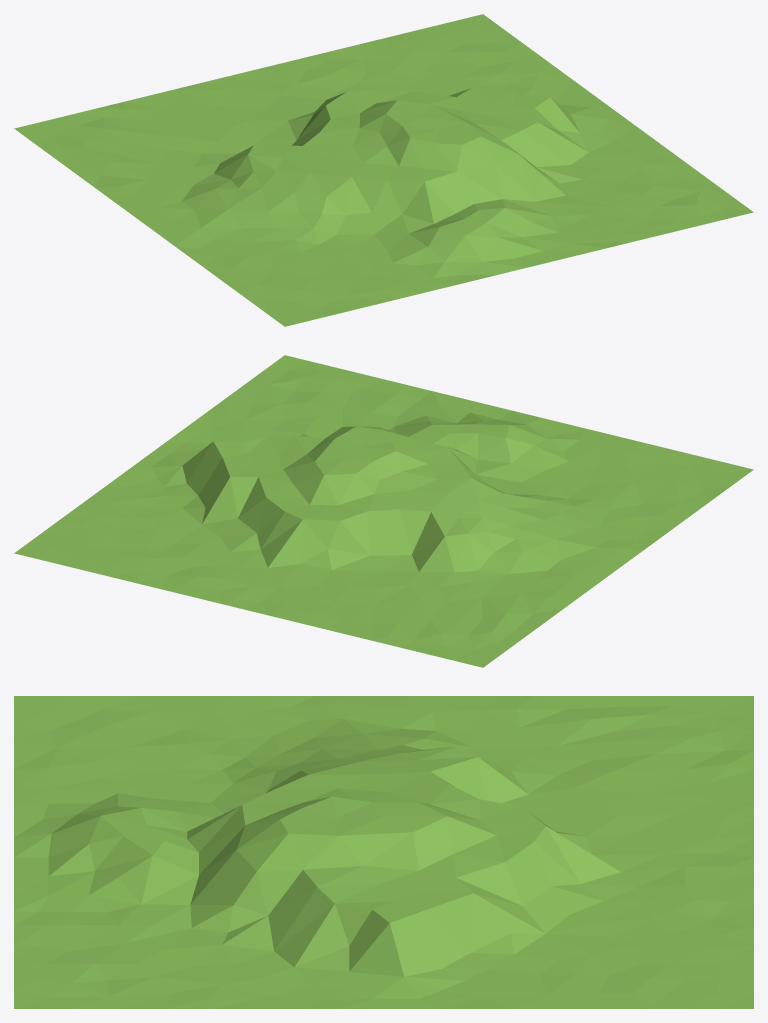
Rendered from MT_Terrain_M_d_06.fbx.
The picture shows the model from 3 angles, top to bottom: view 1: azimuth 30°, elevation 25°; view 2: azimuth 150°, elevation 25°; view 3: azimuth 270°, elevation 25°; orthographic projection. The views are drawn at different scales.
Visible parts, largest first — view 1: MT_Terrain_M_d_06; view 2: MT_Terrain_M_d_06; view 3: MT_Terrain_M_d_06.
Boxes of the visible parts, x1,y1,x2,y2 form: MT_Terrain_M_d_06: (14, 14, 753, 326); MT_Terrain_M_d_06: (14, 355, 753, 667); MT_Terrain_M_d_06: (14, 696, 753, 1008).
Size of the model in its own units: 5000 by 463 by 5000.
